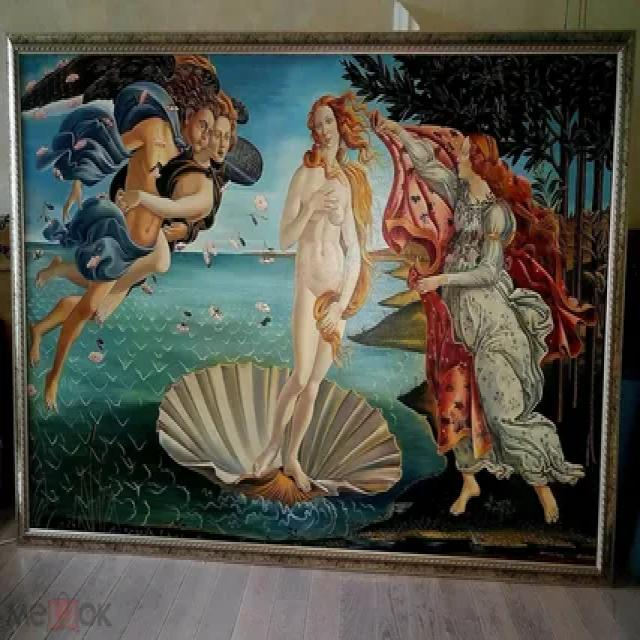Venus and Mars: (18, 52, 616, 571)
